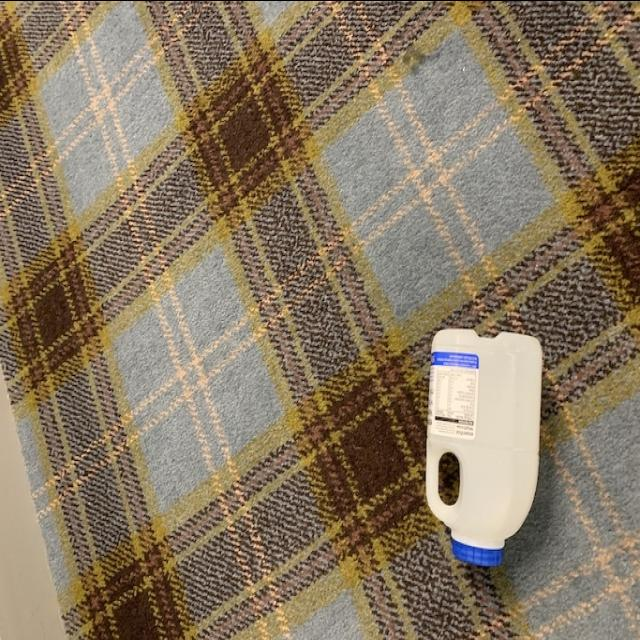HDPEM: (422, 320, 546, 570)
